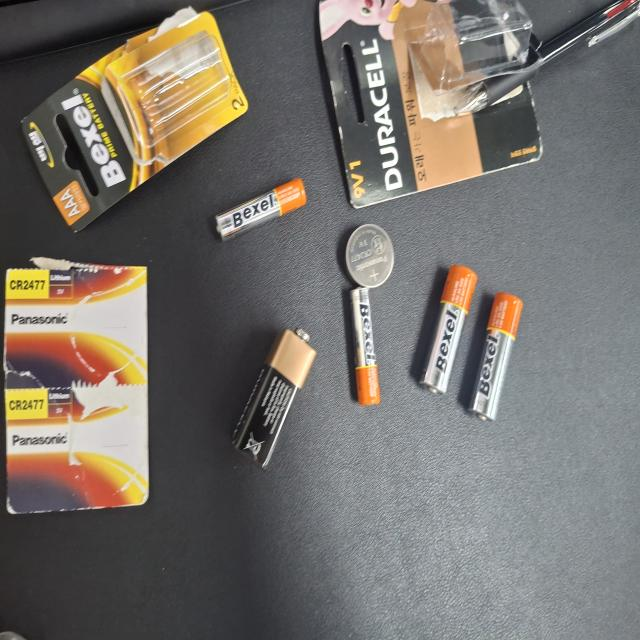9V: (129, 310, 233, 422)
AA: (185, 560, 281, 636), (164, 624, 260, 640)
AAA: (301, 287, 346, 408), (176, 468, 265, 506)
COIN: (264, 461, 312, 526)
